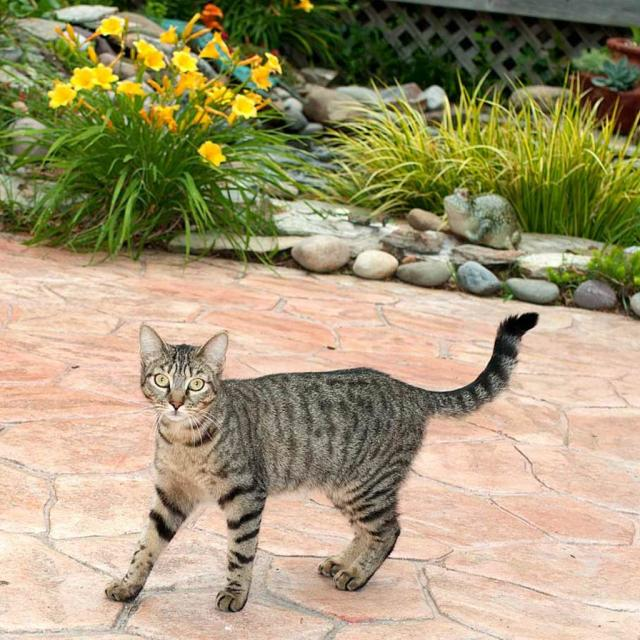Cat: (102, 311, 538, 608)
